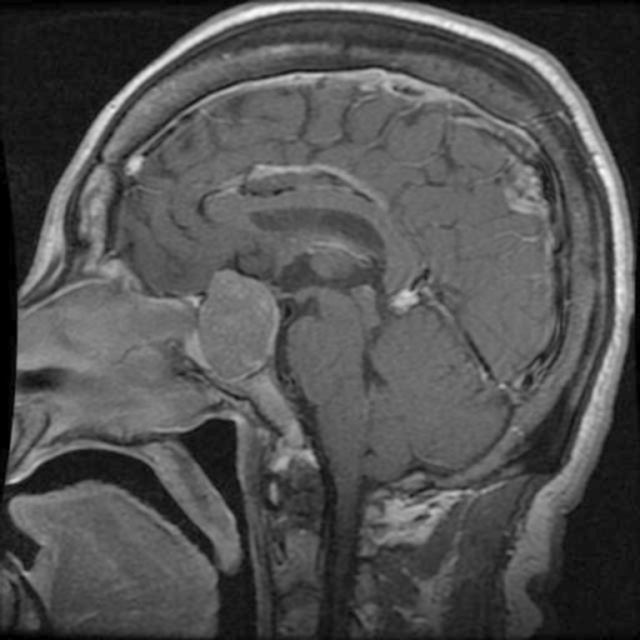no tumor: (195, 264, 283, 385)
